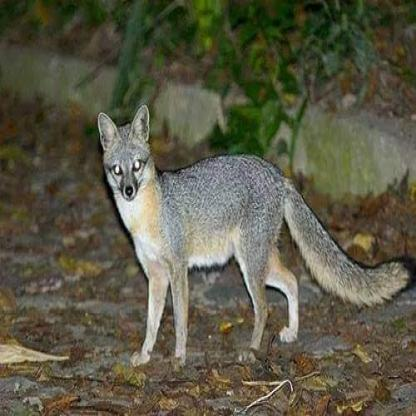zorro: (91, 94, 415, 380)
